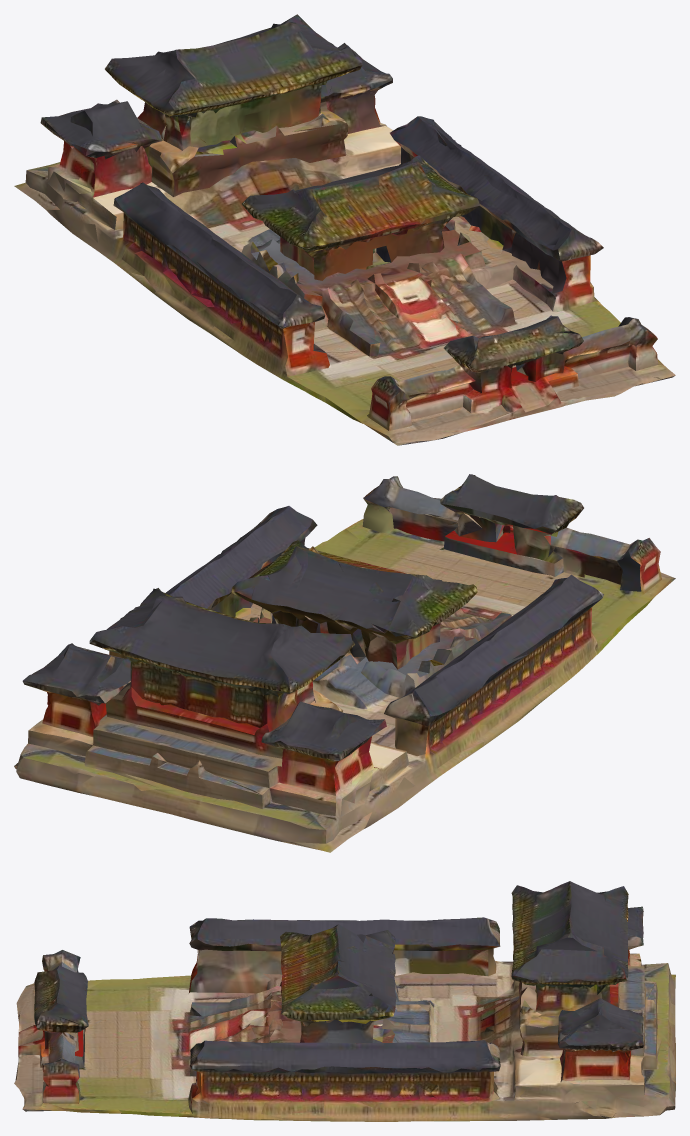
Rendered from haeinsa.glb.
3 renders of one model, top to bottom at view 1: azimuth 30°, elevation 25°; view 2: azimuth 150°, elevation 25°; view 3: azimuth 270°, elevation 25°, orthographic. The views are drawn at different scales.
Visible parts, largest first — view 1: logan-textured.obj; view 2: logan-textured.obj; view 3: logan-textured.obj.
Part boxes in pixels (bbox=[...]): logan-textured.obj: bbox=[14, 14, 675, 445]; logan-textured.obj: bbox=[14, 474, 675, 852]; logan-textured.obj: bbox=[14, 881, 675, 1121].
Size of the model in its own units: 0.5298 by 0.2407 by 1.
1 material, 1 textured.
